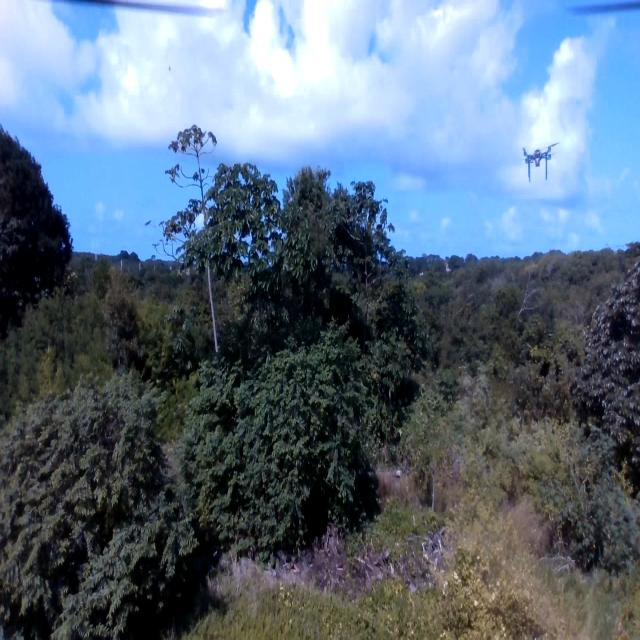-uav-: (514, 141, 558, 191)
